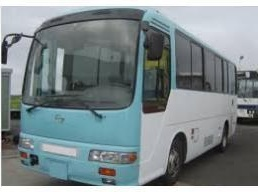bus: (17, 8, 238, 187)
